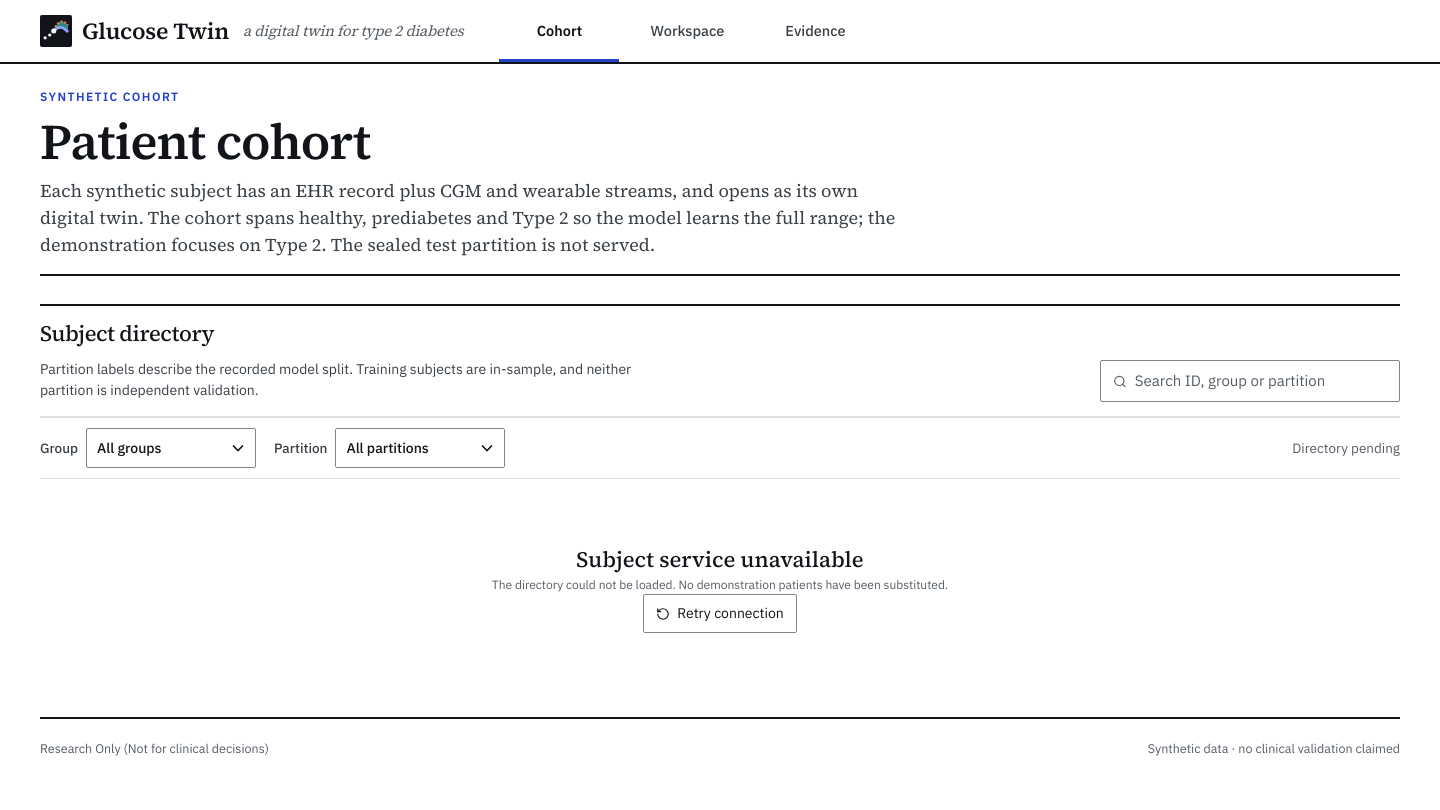
Test: Cohort directory and Workspace entry › rejects malformed metadata and can retry the real request
Expected: the heading "Subject service unavailable" is shown, [576,544,864,574]
Click the button "Retry connection" at (720, 614), box [643,594,797,633]
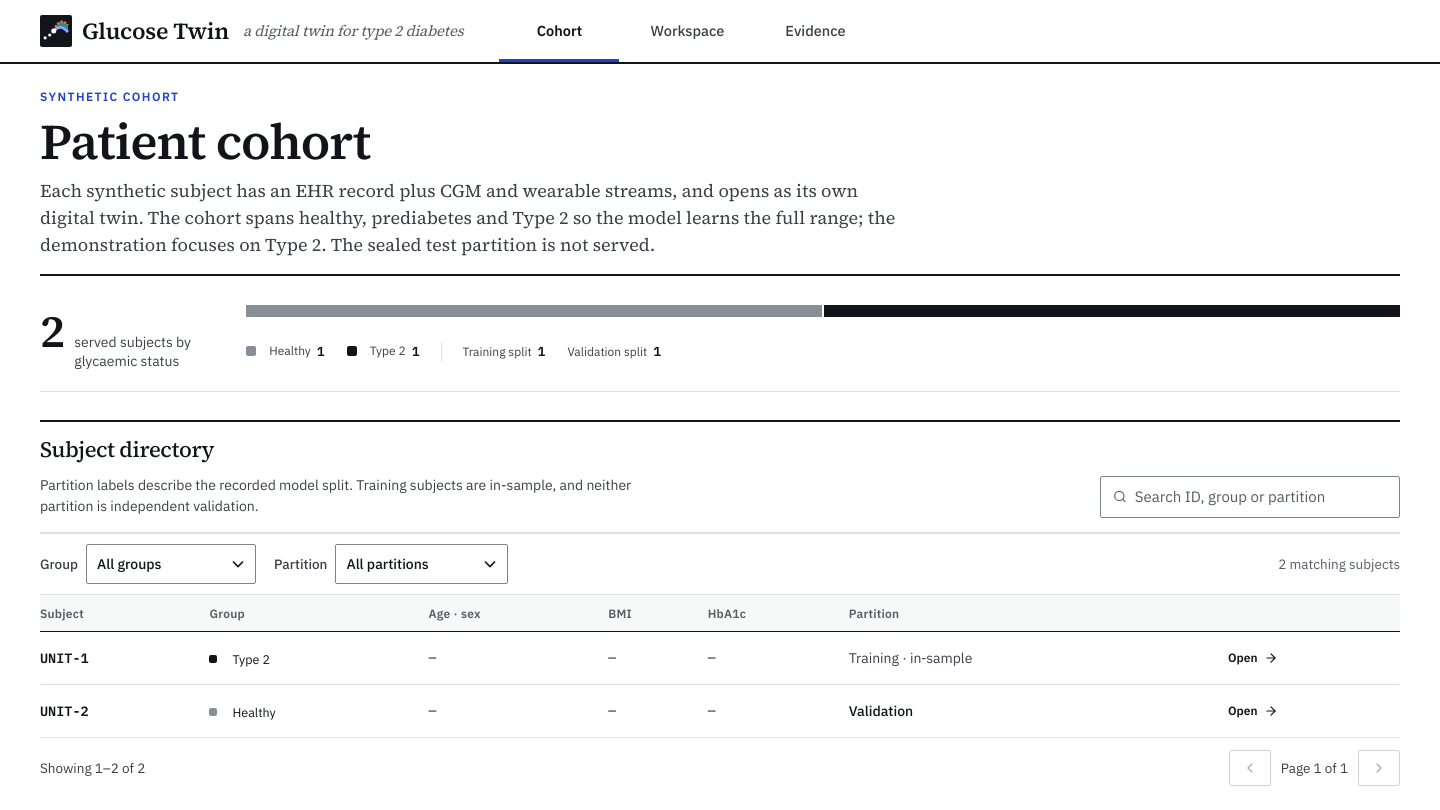
Now the link with aria-label "Open subject UNIT-1" is shown, box [1228,650,1278,665]
